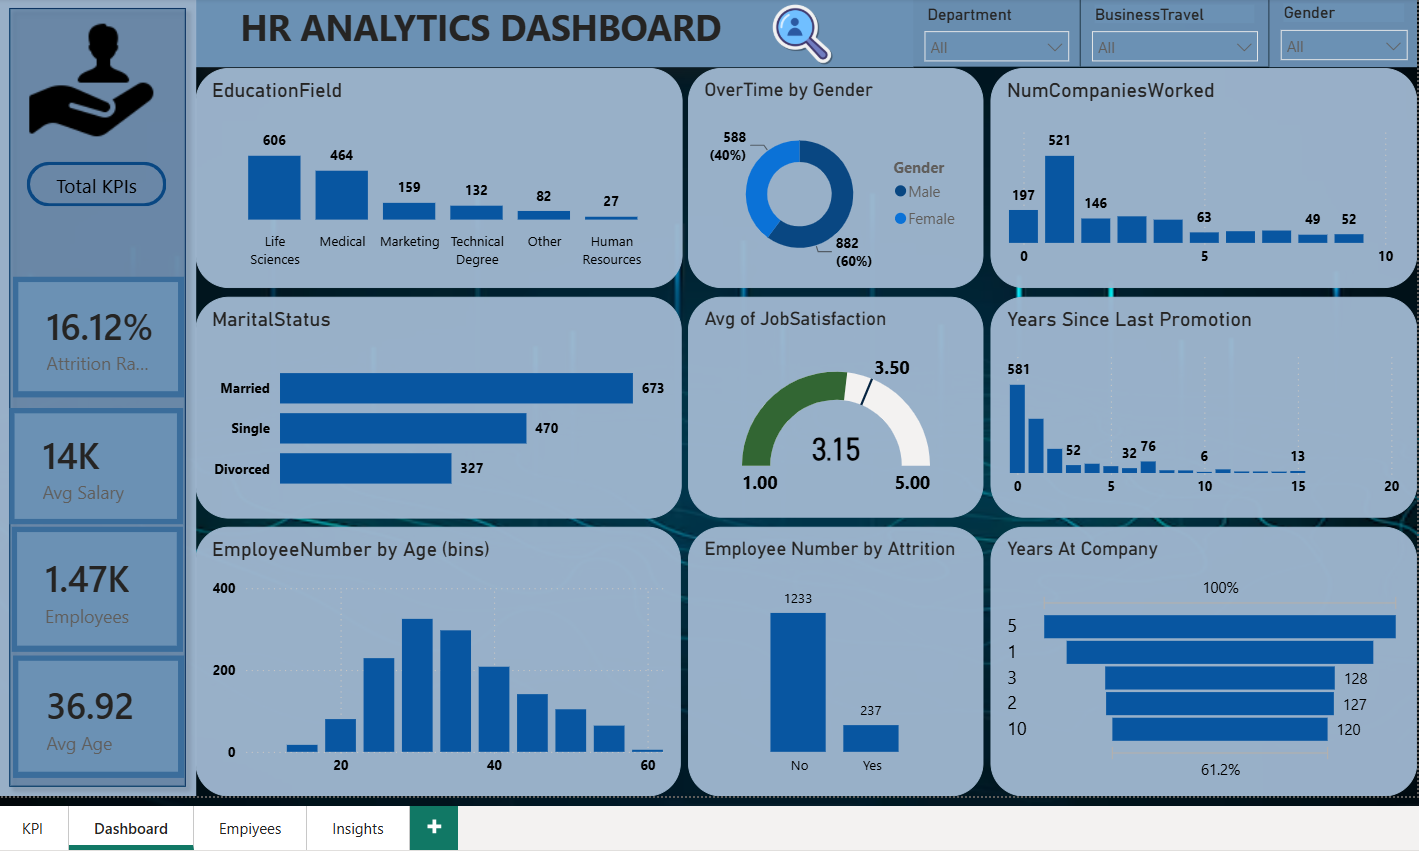

The dashboard page shown, as its layout file describes it:
{"tool":"powerbi","page":{"name":"Dashboard","canvas":[1280,720],"ordinal":1},"visuals":[{"type":"textbox","box":[178.5,0,646.9,62.4],"z":0},{"type":"shape","box":[1.2,0,177.3,720.2],"z":1000},{"type":"columnChart","title":" EmployeeNumber by Age (bins)","fields":{"Y":["CountNonNull(HRIS.EmployeeNumber)"],"Category":["HRIS.Age (bins)"]},"box":[178.5,476.9,437.8,243.3],"z":2000},{"type":"gauge","title":"Avg of JobSatisfaction","fields":{"Y":["Avg(HRIS.PerformanceRating)"]},"box":[622.4,269,266.6,199.3],"z":3000},{"type":"donutChart","title":"OverTime by Gender","fields":{"Category":["HRIS.Gender"],"Y":["CountNonNull(HRIS.OverTime)"]},"box":[622.4,63.6,266.6,198.1],"z":4000},{"type":"columnChart","title":"EducationField","fields":{"Y":["CountNonNull(HRIS.Attrition)"],"Category":["HRIS.EducationField"]},"box":[178.5,63.6,439,198.1],"z":5000},{"type":"clusteredBarChart","title":"MaritalStatus","fields":{"Category":["HRIS.MaritalStatus"],"Y":["CountNonNull(HRIS.Attrition)"]},"box":[178.5,269,438.2,199.8],"z":6000},{"type":"columnChart","title":" NumCompaniesWorked","fields":{"Category":["HRIS.NumCompaniesWorked"],"Y":["CountNonNull(HRIS.Attrition)"]},"box":[895.1,63.6,385.2,198.1],"z":7000},{"type":"columnChart","title":" Years Since Last Promotion","fields":{"Category":["HRIS.YearsSinceLastPromotion"],"Y":["CountNonNull(HRIS.Attrition)"]},"box":[895.1,269,385.2,199.3],"z":8000},{"type":"slicer","fields":{"Values":["HRIS.Gender"]},"box":[1145.8,0,134.5,62.4],"z":9000},{"type":"slicer","fields":{"Values":["HRIS.Department"]},"box":[825.4,1.2,150.4,61.1],"z":10000},{"type":"slicer","fields":{"Values":["HRIS.BusinessTravel"]},"box":[975.8,1.2,170,61.1],"z":11000},{"type":"columnChart","title":"Employee Number by Attrition","fields":{"Y":["CountNonNull(Engagement Survey.EmployeeNumber)"],"Category":["HRIS.Attrition"]},"box":[622.4,476.9,266.6,243.3],"z":12000},{"type":"funnel","title":"Years At Company","fields":{"Category":["HRIS.YearsAtCompany"],"Y":["CountNonNull(HRIS.Attrition)"]},"box":[895.1,476.9,385.2,243.3],"z":13000},{"type":"cardVisual","fields":{"Data":["Avg(HRIS.MonthlyIncome)"]},"box":[9.8,369.3,156.5,105.2],"z":14000},{"type":"cardVisual","fields":{"Data":["Count(HRIS.EmployeeNumber)"]},"box":[12.2,476.9,154.1,112.5],"z":15000},{"type":"cardVisual","fields":{"Data":["Avg(HRIS.Age)"]},"box":[13.5,593.1,154.1,110.1],"z":16000},{"type":"cardVisual","fields":{"Data":["Engagement Survey.Measure"]},"box":[13.5,251.9,154.1,108.8],"z":17000},{"type":"actionButton","box":[25.7,148,126,40.4],"z":18000},{"type":"image","box":[17.1,13.5,134.5,121.1],"z":19000},{"type":"image","box":[678.7,1.2,92.9,62.4],"z":20000}]}

Visuals, with their boxes on the page's 1280x720 design canvas (x1, y1, x2, y2). These are canvas units, not pixel positions in the 1419x851 screenshot, which may show the page scaled, cropped or inside an application window:
textbox: (178,0,825,62)
shape: (1,0,178,720)
" EmployeeNumber by Age (bins)" columnChart: (178,477,616,720)
"Avg of JobSatisfaction" gauge: (622,269,889,468)
"OverTime by Gender" donutChart: (622,64,889,262)
"EducationField" columnChart: (178,64,618,262)
"MaritalStatus" clusteredBarChart: (178,269,617,469)
" NumCompaniesWorked" columnChart: (895,64,1280,262)
" Years Since Last Promotion" columnChart: (895,269,1280,468)
slicer - HRIS.Gender: (1146,0,1280,62)
slicer - HRIS.Department: (825,1,976,62)
slicer - HRIS.BusinessTravel: (976,1,1146,62)
"Employee Number by Attrition" columnChart: (622,477,889,720)
"Years At Company" funnel: (895,477,1280,720)
cardVisual - Avg(HRIS.MonthlyIncome): (10,369,166,474)
cardVisual - Count(HRIS.EmployeeNumber): (12,477,166,589)
cardVisual - Avg(HRIS.Age): (14,593,168,703)
cardVisual - Engagement Survey.Measure: (14,252,168,361)
actionButton: (26,148,152,188)
image: (17,14,152,135)
image: (679,1,772,64)
